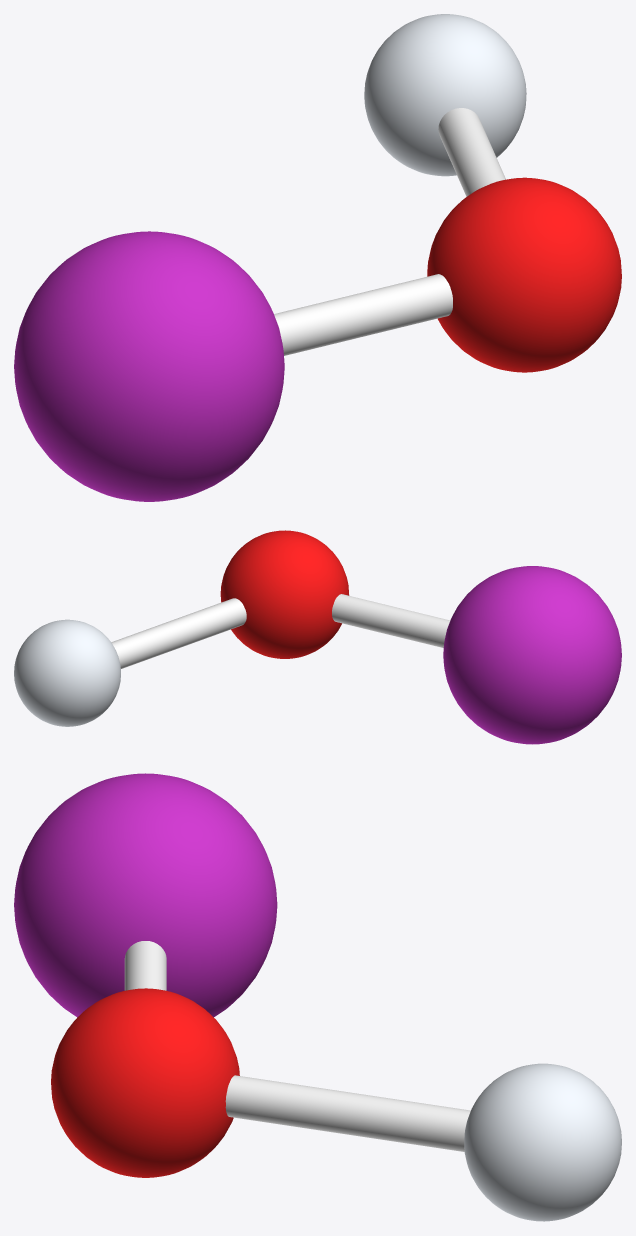
Rendered from sodium_hydroxide.fbx.
3 views of the same model, one above another, from view 1: azimuth 30°, elevation 25°; view 2: azimuth 150°, elevation 25°; view 3: azimuth 270°, elevation 25° (orthographic). The views are drawn at different scales.
Parts seen in each view (by area): view 1: sodium_hydroxide; view 2: sodium_hydroxide; view 3: sodium_hydroxide.
Part boxes in pixels (bbox=[...]): sodium_hydroxide: bbox=[14, 14, 621, 501]; sodium_hydroxide: bbox=[14, 530, 621, 744]; sodium_hydroxide: bbox=[14, 773, 621, 1221].
Size of the model in its own units: 147 by 50 by 115.
